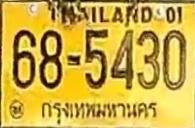0: (162, 30, 186, 90)
3: (136, 30, 160, 89)
4: (110, 29, 134, 89)
5: (84, 28, 108, 88)
6: (12, 29, 36, 88)
8: (39, 29, 62, 88)
BKK: (35, 95, 162, 125)
